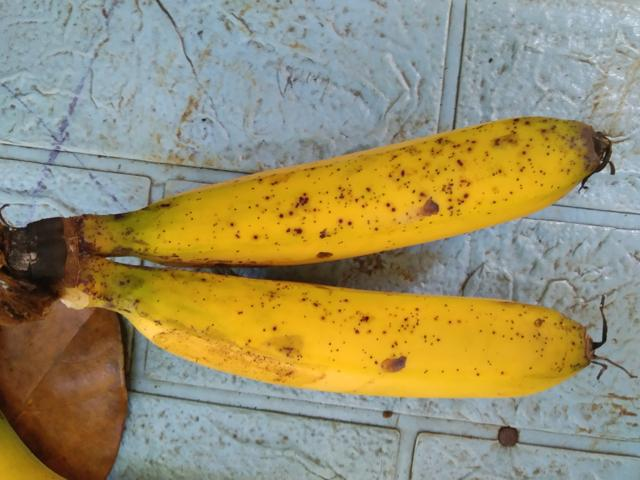ripe: (126, 253, 632, 450), (96, 102, 622, 288)
